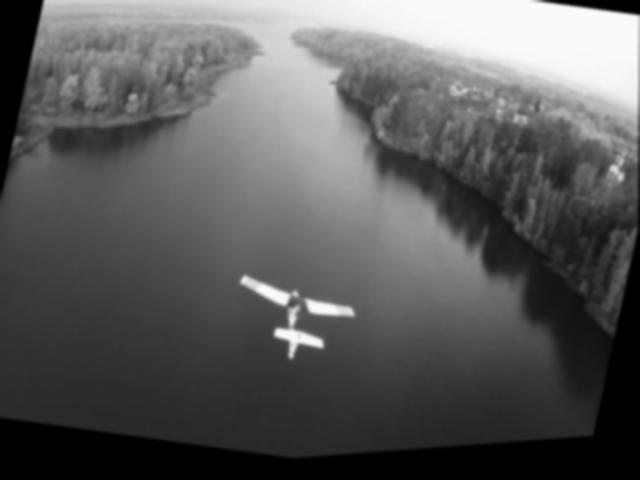hedef: (223, 266, 366, 384)
